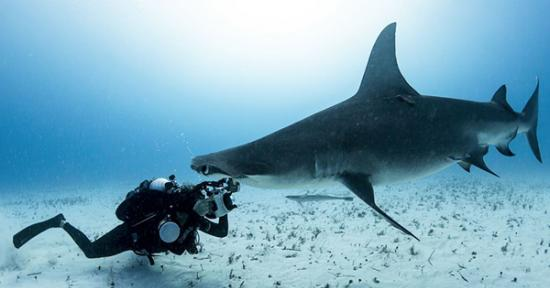shark: (188, 23, 545, 242)
